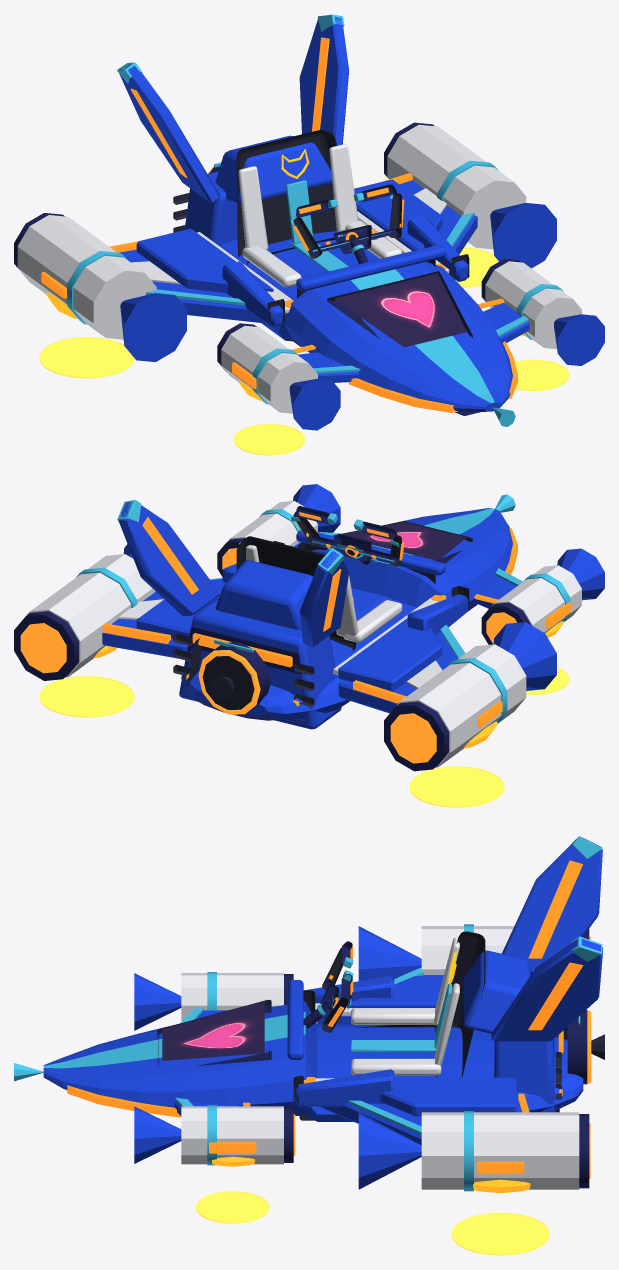
File: hoverkart.glb
The picture shows the model from 3 angles, top to bottom: view 1: azimuth 30°, elevation 25°; view 2: azimuth 150°, elevation 25°; view 3: azimuth 270°, elevation 25°; orthographic projection. The views are drawn at different scales.
Parts seen in each view (by area): view 1: Hull, Nacelle, Nacelle.002, Display_Screen, Nacelle.001, Fin.001, Seat_Back, Wing_Root, Nacelle.003, Rear_Hump, Nacelle_Nose, Fin (+26 smaller); view 2: Hull, Nacelle, Nacelle.002, Rear_Deck, Fin.001, Rear_Hump, Wing_Root, Thruster_Glow, Thruster_Glow.002, Nacelle.001, Fin, Nacelle_Nose (+34 smaller); view 3: Hull, Nacelle.002, Fin, Fin.001, Nacelle.003, Wing_Root.001, Display_Screen, Rear_Hump, Thruster_Glow.002, Nacelle.001, Rear_Deck, Nacelle_Nose.002 (+27 smaller).
Boxes of the visible parts, left/top/right/bottom form: Hull: left=219, top=231, right=512, bottom=412; Nacelle: left=17, top=215, right=156, bottom=339; Nacelle.002: left=387, top=124, right=526, bottom=249; Display_Screen: left=334, top=273, right=466, bottom=347; Nacelle.001: left=221, top=325, right=317, bottom=413; Fin.001: left=299, top=17, right=349, bottom=145; Seat_Back: left=236, top=130, right=336, bottom=257; Wing_Root: left=136, top=228, right=273, bottom=292; Nacelle.003: left=485, top=261, right=581, bottom=349; Rear_Hump: left=215, top=135, right=332, bottom=203; Nacelle_Nose: left=120, top=293, right=186, bottom=362; Fin: left=119, top=63, right=219, bottom=203; Hull: left=181, top=508, right=512, bottom=720; Nacelle: left=396, top=644, right=526, bottom=767; Nacelle.002: left=26, top=554, right=155, bottom=677; Rear_Deck: left=179, top=598, right=341, bottom=729; Fin.001: left=118, top=501, right=219, bottom=616; Rear_Hump: left=215, top=560, right=312, bottom=629; Wing_Root: left=338, top=618, right=442, bottom=691; Thruster_Glow: left=409, top=766, right=504, bottom=807; Thruster_Glow.002: left=39, top=676, right=134, bottom=717; Nacelle.001: left=492, top=565, right=581, bottom=632; Fin: left=299, top=550, right=348, bottom=647; Nacelle_Nose: left=493, top=622, right=556, bottom=690; Hull: left=43, top=1001, right=583, bottom=1121; Nacelle.002: left=421, top=1112, right=579, bottom=1189; Fin: left=502, top=837, right=602, bottom=971; Fin.001: left=491, top=939, right=602, bottom=1041; Nacelle.003: left=181, top=1106, right=283, bottom=1164; Wing_Root.001: left=380, top=1077, right=516, bottom=1116; Display_Screen: left=162, top=1001, right=264, bottom=1060; Rear_Hump: left=463, top=950, right=530, bottom=1033; Thruster_Glow.002: left=451, top=1212, right=549, bottom=1255; Nacelle.001: left=181, top=973, right=283, bottom=1021; Rear_Deck: left=494, top=1039, right=555, bottom=1112; Nacelle_Nose.002: left=358, top=1113, right=421, bottom=1189.
Bounding box in the file's own units: 2.74 × 1.43 × 3.
13 materials, 2 textured.
